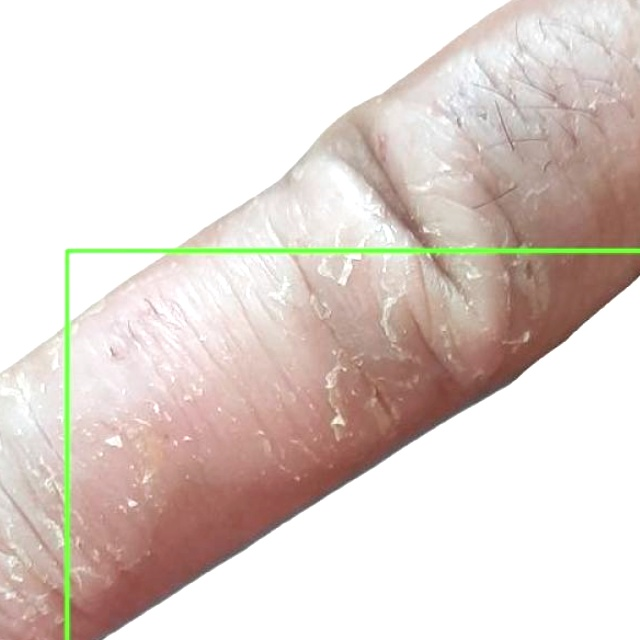Eczema: (67, 250, 639, 639)
